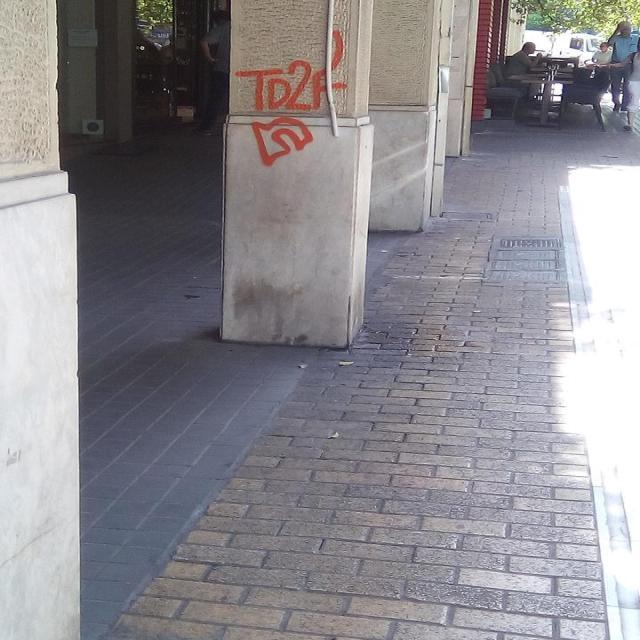nonspitting: (235, 28, 348, 166)
